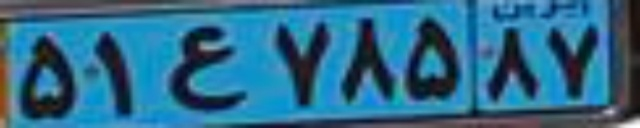1: (91, 28, 135, 114)
5: (18, 34, 76, 119), (402, 17, 460, 101)
7: (271, 19, 330, 107), (544, 21, 603, 99)
8: (338, 17, 395, 103), (484, 26, 540, 100)
ain: (168, 24, 247, 113)
